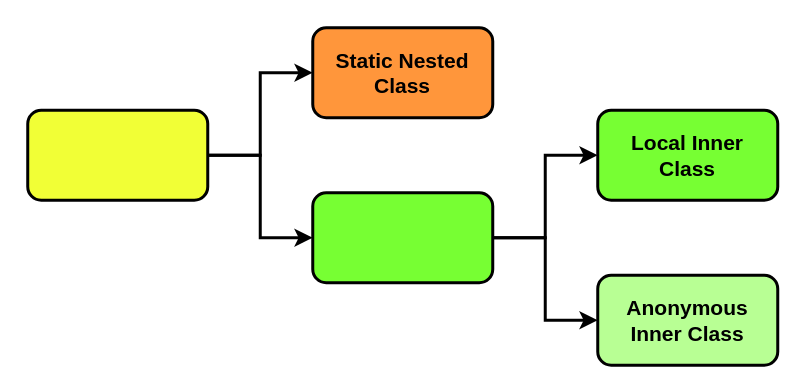
Some shapes in this 804 by 392 pixel diagram are drawn without their labels. The shapes that lost their labels are listed below. From the top down, each one's box as (x1, y1, x2, y2) in pixels, then its label:
(26, 108, 208, 201): Nested Class
(310, 190, 494, 284): Inner Class
